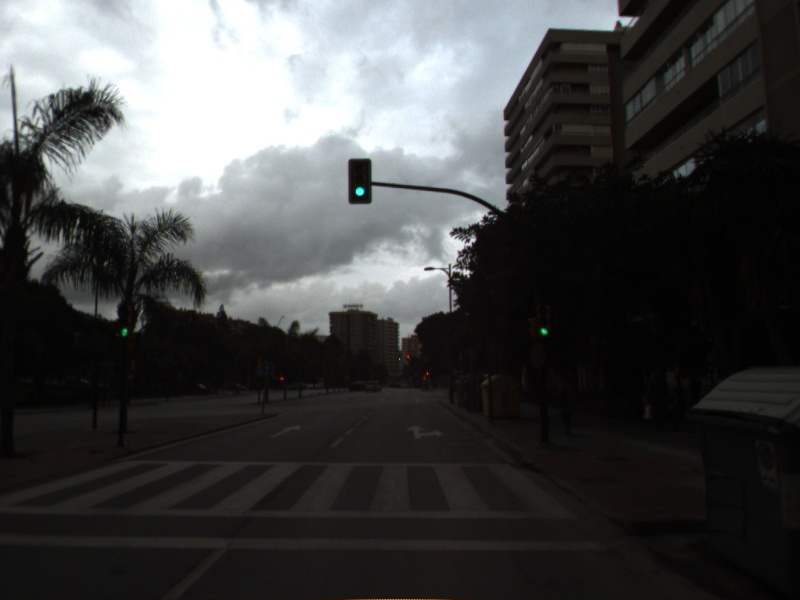STRAIGHT: (267, 422, 303, 440)
STRAIGHT_RIGHT: (402, 422, 447, 441)
